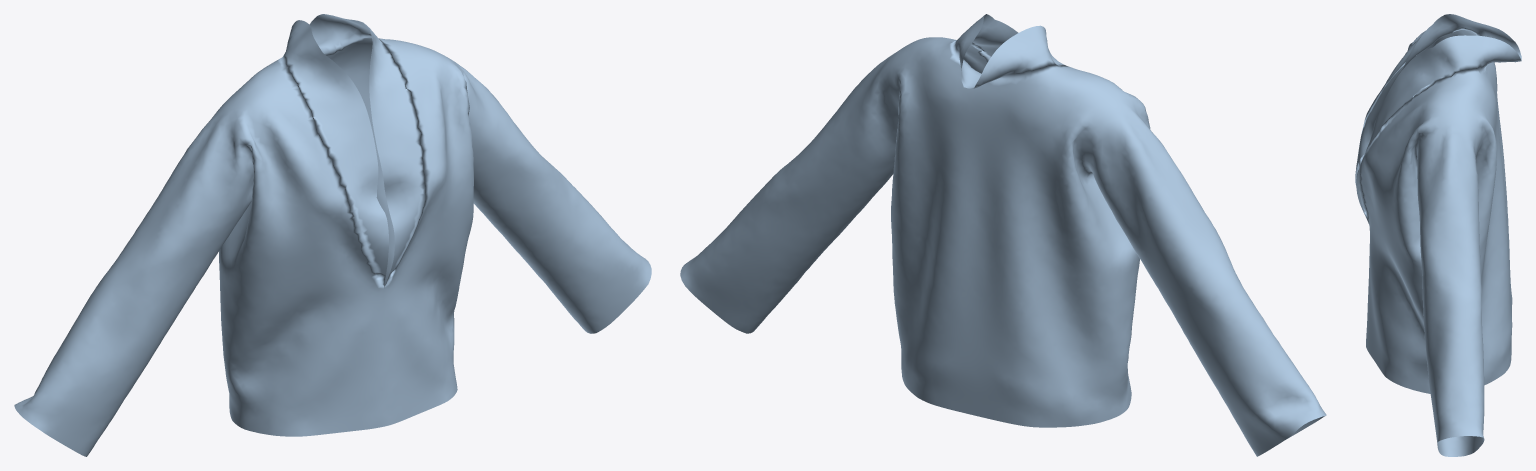
The model's file is jacket_M.glb.
The picture shows the model from 3 angles, left to right: view 1: azimuth 30°, elevation 25°; view 2: azimuth 150°, elevation 25°; view 3: azimuth 270°, elevation 25°; orthographic projection. The views are drawn at different scales.
Parts seen in each view (by area): view 1: geometry_0; view 2: geometry_0; view 3: geometry_0.
Boxes of the visible parts, left/top/right/bottom form: geometry_0: left=14, top=14, right=651, bottom=456; geometry_0: left=680, top=14, right=1326, bottom=456; geometry_0: left=1355, top=14, right=1521, bottom=456.
Bounding box in the file's own units: 1.19 × 0.6659 × 0.3098.
